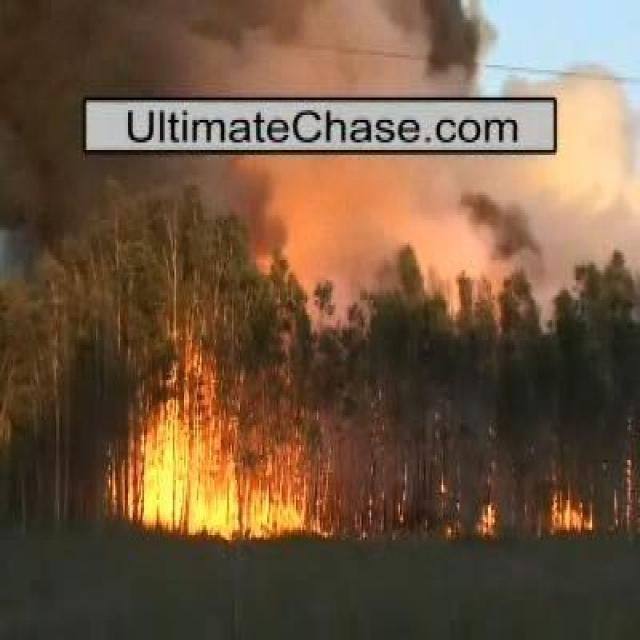fire: (125, 419, 302, 542)
smoke: (249, 156, 608, 268), (80, 8, 479, 90)
